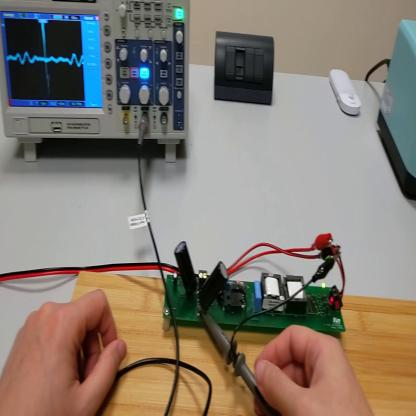hand: (2, 288, 130, 415), (253, 327, 372, 412)
high voltage board: (165, 248, 358, 338)
oscilloscope: (1, 2, 191, 163)
oscilloscope probe tip: (203, 306, 287, 415)
welder station: (378, 13, 416, 201)
working area: (56, 270, 416, 416)
